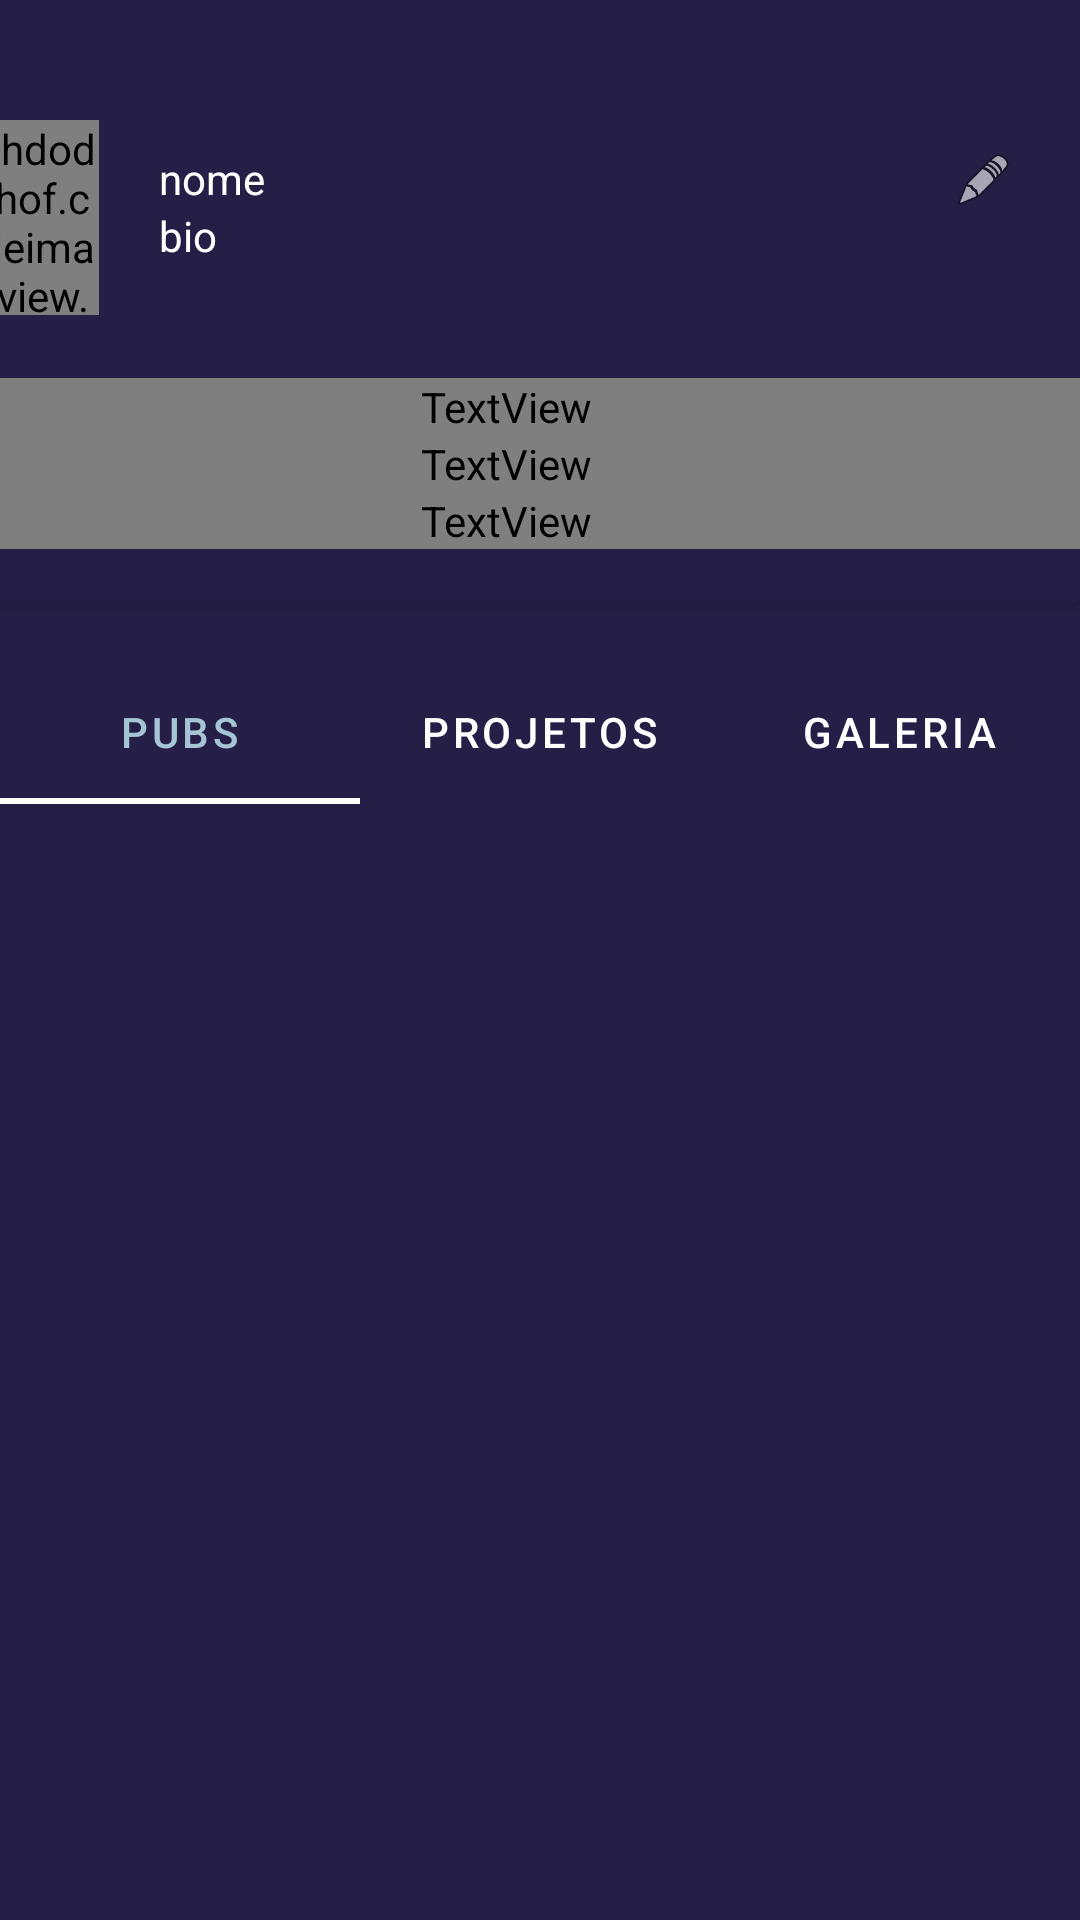

Icon click points for this 1080px x 1920px phone screenshot, format [x,y]:
edit: [983,179]
